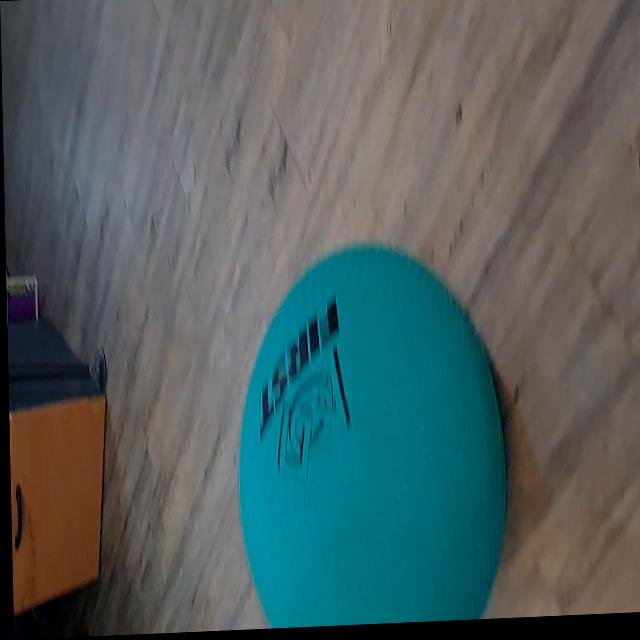ALGAE: (232, 235, 510, 629)
